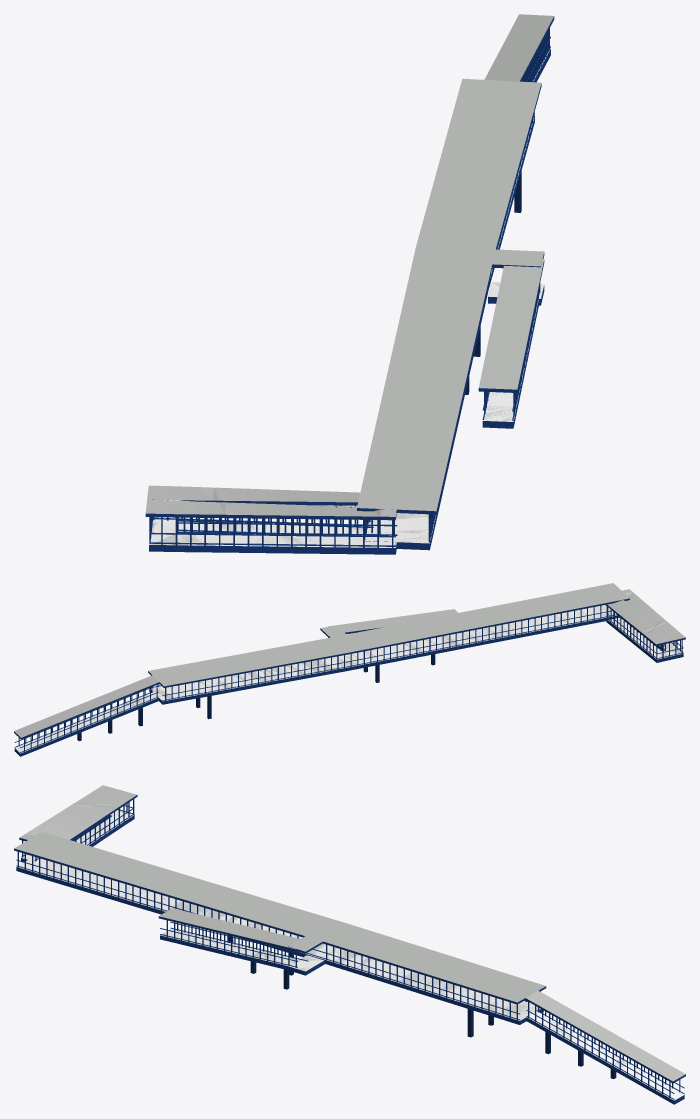
Rendered from source.glb.
3 views of the same model, one above another, from view 1: azimuth 30°, elevation 25°; view 2: azimuth 150°, elevation 25°; view 3: azimuth 270°, elevation 25° (orthographic). The views are drawn at different scales.
Parts seen in each view (by area): view 1: passar_1, passar_0, coll_passar; view 2: passar_1, passar_0, coll_passar; view 3: passar_1, passar_0, coll_passar.
Part boxes in pixels (x1,y1,x2,y2): passar_1: (145, 14, 554, 554); passar_0: (149, 48, 550, 547); coll_passar: (149, 64, 542, 547); passar_1: (14, 583, 685, 756); passar_0: (15, 605, 681, 753); coll_passar: (67, 605, 683, 729); passar_1: (14, 785, 685, 1104); passar_0: (17, 810, 684, 1100); coll_passar: (23, 811, 644, 1079).
Bounding box in the file's own units: 91.12 × 9.96 × 99.24.
